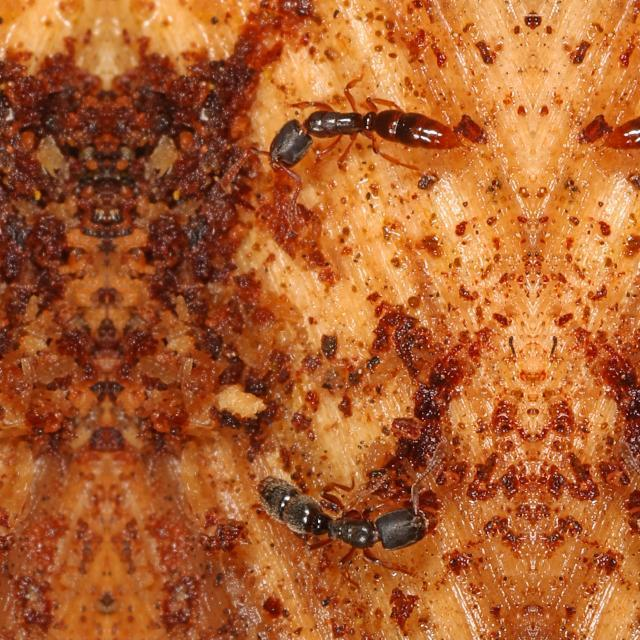Ponera: (252, 45, 478, 208), (278, 427, 464, 581), (586, 44, 640, 208), (600, 427, 640, 581)
